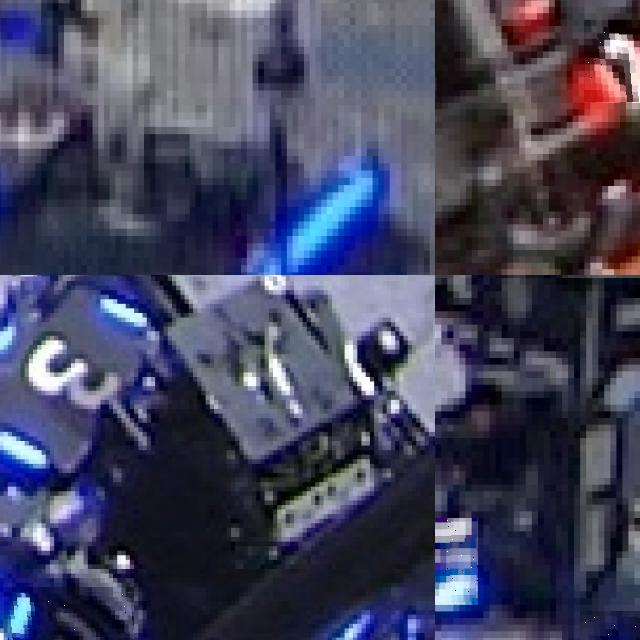B1: (435, 518, 477, 604)
B3: (3, 587, 134, 640)
R2: (584, 19, 640, 102)
